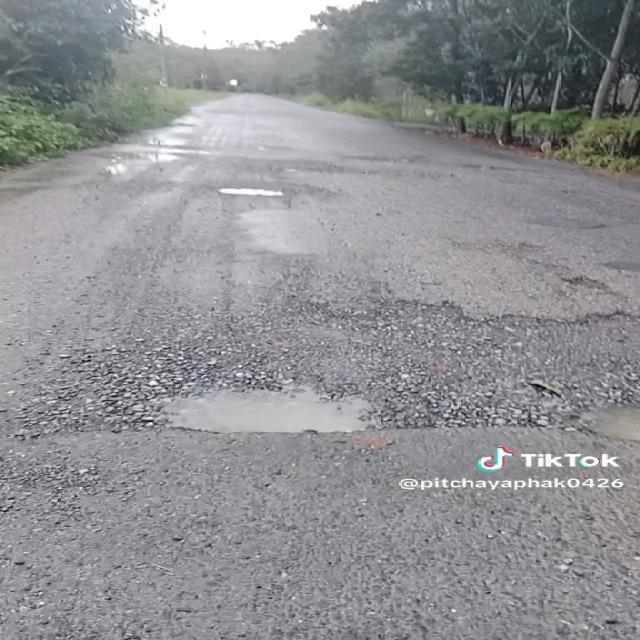Poth-hole: (178, 165, 414, 241)
